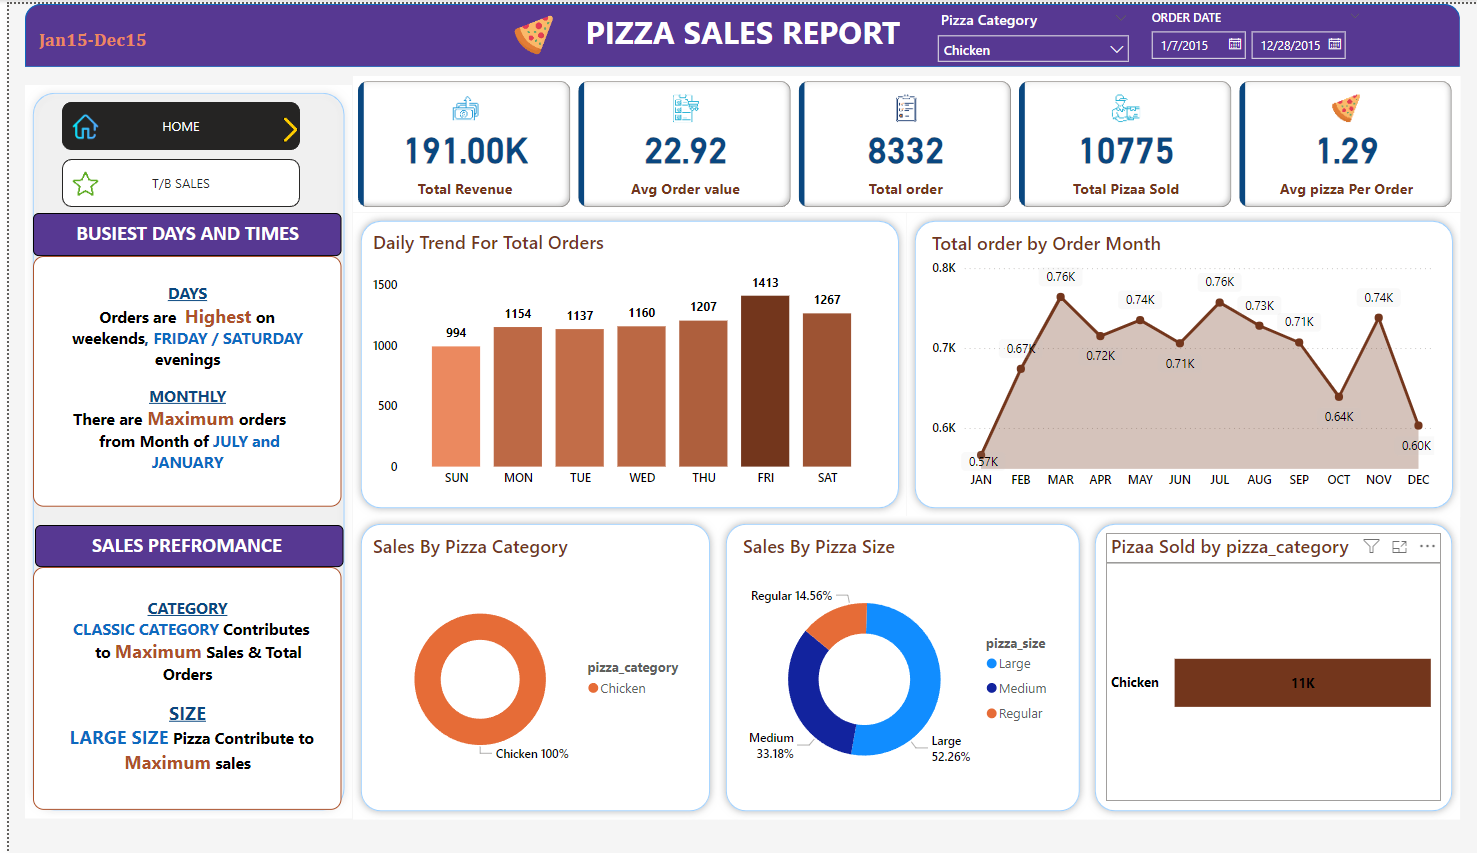

The dashboard page shown, as its layout file describes it:
{"tool":"powerbi","page":{"name":"HOME","canvas":[1500,870],"ordinal":0},"visuals":[{"type":"cardVisual","fields":{"Data":["pizza_sales.Total Revenue","pizza_sales.Avg Order value","pizza_sales.Total order","pizza_sales.Total Pizaa Sold","pizza_sales.Avg pizza Per Order"]},"box":[351.2,73.8,1131,139.3],"z":0},{"type":"shape","box":[16.7,0,1465.5,64.3],"z":1000},{"type":"textbox","box":[559.5,6,379.8,51.2],"z":2000},{"type":"textbox","box":[26,18.9,144.1,37.8],"z":3000},{"type":"image","box":[500,6,70.2,51.2],"z":4000},{"type":"shape","box":[351.2,213.1,565.5,309.5],"z":5000},{"type":"columnChart","title":"Daily Trend For Total Orders","fields":{"Category":["pizza_sales.Day"],"Y":["pizza_sales.Total order"]},"box":[366.6,229.8,524.9,272.6],"z":6000},{"type":"shape","box":[16.5,82.7,334.3,748.8],"z":7000},{"type":"shape","box":[916.7,213.1,565.5,309.5],"z":8000},{"type":"areaChart","fields":{"Y":["pizza_sales.Total order"],"Category":["pizza_sales.Order Month"]},"box":[937.6,230.5,523.1,272.9],"z":9000},{"type":"shape","box":[351.2,522.6,372.6,309.5],"z":10000},{"type":"shape","box":[723.8,522.6,377.4,309.5],"z":11000},{"type":"shape","box":[1101.2,522.6,381,309.5],"z":12000},{"type":"donutChart","title":"Sales By Pizza Category","fields":{"Category":["pizza_sales.pizza_category"],"Y":["pizza_sales.Total Revenue"]},"box":[366.7,540.5,338.1,273.8],"z":13000},{"type":"donutChart","title":"Sales By Pizza Size","fields":{"Y":["pizza_sales.Total Revenue"],"Category":["pizza_sales.pizza_size"]},"box":[744,540.5,338.1,273.8],"z":14000},{"type":"funnel","title":"Pizaa Sold by pizza_category","fields":{"Category":["pizza_sales.pizza_category"],"Y":["pizza_sales.Total Pizaa Sold"]},"box":[1120.2,540.5,341.7,273.8],"z":15000},{"type":"textbox","box":[25,213.1,315.5,44],"z":16000},{"type":"textbox","box":[25,257.1,315.5,256],"z":17000},{"type":"textbox","box":[26.2,532.1,315.5,42.9],"z":18000},{"type":"textbox","box":[25,575,315.5,247.6],"z":19000},{"type":"slicer","fields":{"Values":["pizza_sales.pizza_category"]},"box":[938.1,0,215.5,64.3],"z":20000},{"type":"slicer","fields":{"Values":["pizza_sales.order_date"]},"box":[1153.6,0,238.1,64.3],"z":21000},{"type":"pageNavigator","box":[54.3,100.4,243,49.6],"z":22000},{"type":"pageNavigator","box":[54.3,158.3,243,49.6],"z":23000},{"type":"image","box":[263.4,109.8,47.2,36],"z":25000},{"type":"image","box":[54.3,107.5,47.2,36],"z":26000},{"type":"image","box":[54.3,165.4,47.2,36],"z":27000}]}

Visuals, with their boxes in screenshot pixels (x1, y1, x2, y2), scaled from the page's 1500x870 canvas onto the 1477x853 screenshot:
cardVisual - pizza_sales.Total Revenue x pizza_sales.Avg Order value: (x1=346, y1=72, x2=1459, y2=209)
shape: (x1=16, y1=0, x2=1459, y2=63)
textbox: (x1=551, y1=6, x2=925, y2=56)
textbox: (x1=26, y1=19, x2=167, y2=56)
image: (x1=492, y1=6, x2=561, y2=56)
shape: (x1=346, y1=209, x2=903, y2=512)
"Daily Trend For Total Orders" columnChart: (x1=361, y1=225, x2=878, y2=493)
shape: (x1=16, y1=81, x2=345, y2=815)
shape: (x1=903, y1=209, x2=1459, y2=512)
areaChart - pizza_sales.Total order x pizza_sales.Order Month: (x1=923, y1=226, x2=1438, y2=494)
shape: (x1=346, y1=512, x2=713, y2=816)
shape: (x1=713, y1=512, x2=1084, y2=816)
shape: (x1=1084, y1=512, x2=1459, y2=816)
"Sales By Pizza Category" donutChart: (x1=361, y1=530, x2=694, y2=798)
"Sales By Pizza Size" donutChart: (x1=733, y1=530, x2=1066, y2=798)
"Pizaa Sold by pizza_category" funnel: (x1=1103, y1=530, x2=1439, y2=798)
textbox: (x1=25, y1=209, x2=335, y2=252)
textbox: (x1=25, y1=252, x2=335, y2=503)
textbox: (x1=26, y1=522, x2=336, y2=564)
textbox: (x1=25, y1=564, x2=335, y2=807)
slicer - pizza_sales.pizza_category: (x1=924, y1=0, x2=1136, y2=63)
slicer - pizza_sales.order_date: (x1=1136, y1=0, x2=1370, y2=63)
pageNavigator: (x1=53, y1=98, x2=293, y2=147)
pageNavigator: (x1=53, y1=155, x2=293, y2=204)
image: (x1=259, y1=108, x2=306, y2=143)
image: (x1=53, y1=105, x2=100, y2=141)
image: (x1=53, y1=162, x2=100, y2=197)
